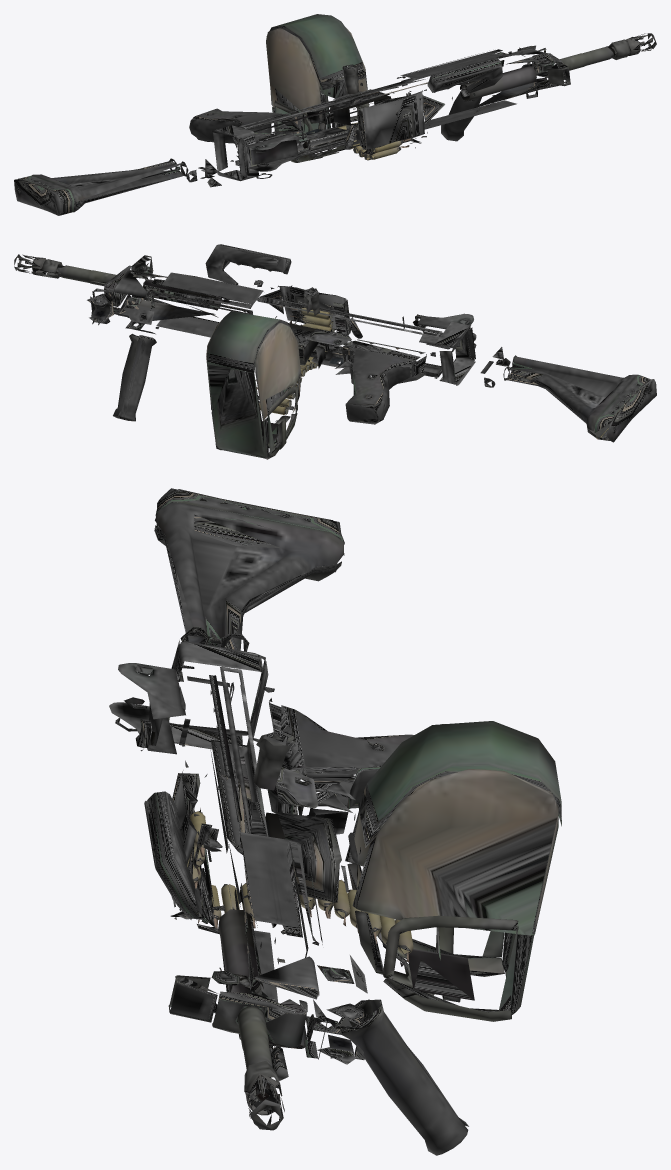
The model's file is p_negev.glb.
3 views of the same model, one above another, from view 1: azimuth 30°, elevation 25°; view 2: azimuth 150°, elevation 25°; view 3: azimuth 270°, elevation 25° (orthographic). The views are drawn at different scales.
Parts seen in each view (by area): view 1: p_negev; view 2: p_negev; view 3: p_negev.
Boxes of the visible parts, x1,y1,x2,y2 form: p_negev: (14,14,656,215); p_negev: (14,244,656,459); p_negev: (109,488,561,1155).
Bounding box in the file's own units: 1.36 × 0.2971 × 0.4351.
Materials: 1 (1 with a texture image).
